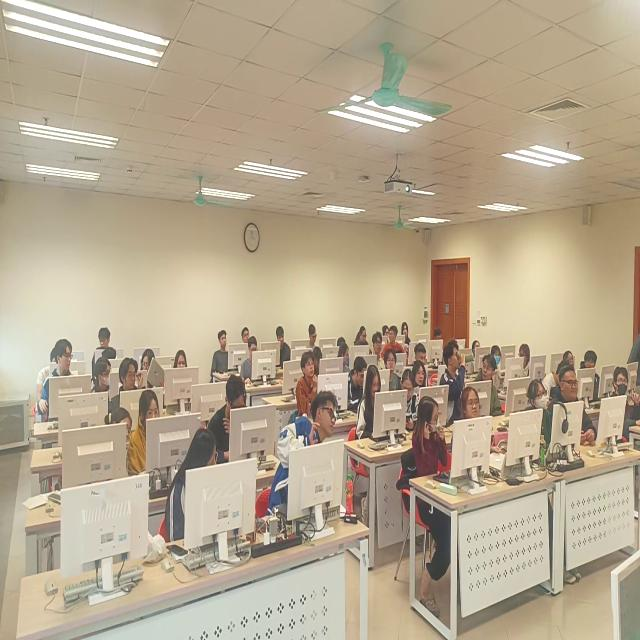raise_head: (560, 374, 594, 446), (610, 364, 640, 445), (297, 356, 334, 410), (209, 327, 243, 381), (117, 361, 150, 407), (275, 325, 296, 371), (382, 351, 403, 395), (413, 360, 431, 393), (96, 327, 117, 350), (372, 335, 385, 369), (307, 325, 322, 354), (402, 324, 413, 349)
stand: (279, 395, 344, 520)
using_computer: (417, 399, 459, 554), (211, 376, 260, 460), (135, 400, 176, 474), (360, 366, 396, 448), (460, 385, 496, 461), (527, 378, 558, 454), (239, 338, 273, 391), (441, 344, 470, 402), (350, 361, 369, 409), (339, 345, 356, 376), (415, 342, 430, 369)
using_phone: (402, 370, 420, 438)
